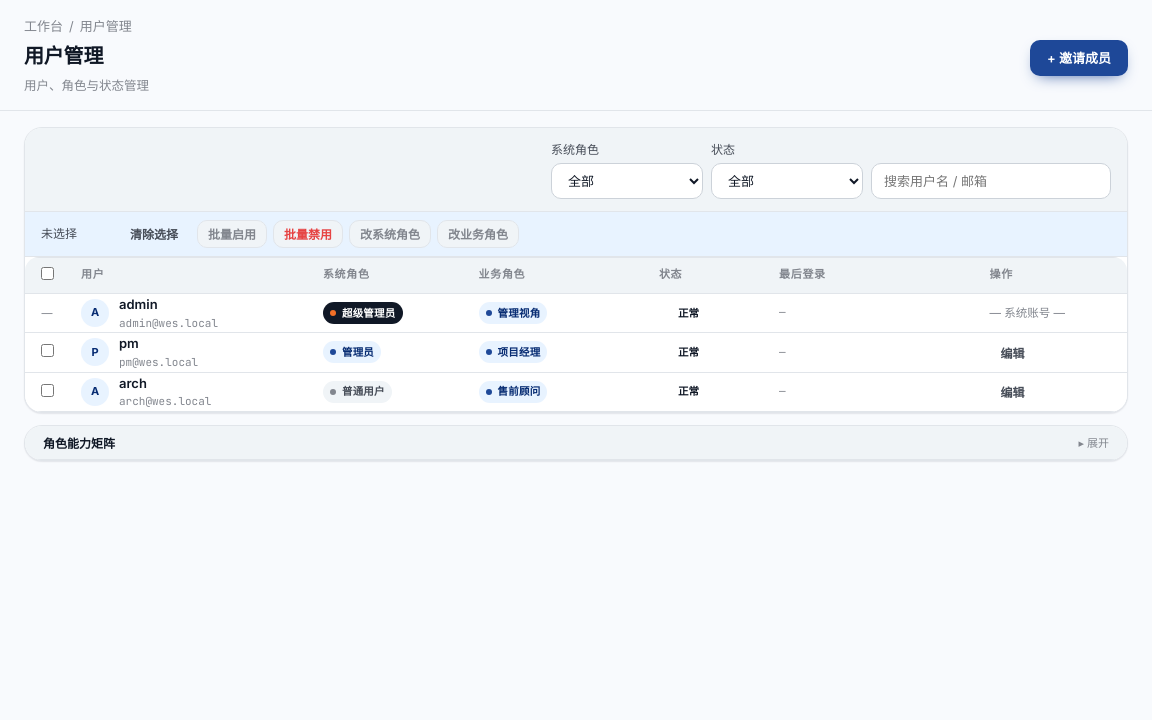
UserManagement › focuses the first editable user field
Click the button with aria-label "编辑 arch": (1012, 392) [990,378,1036,406]
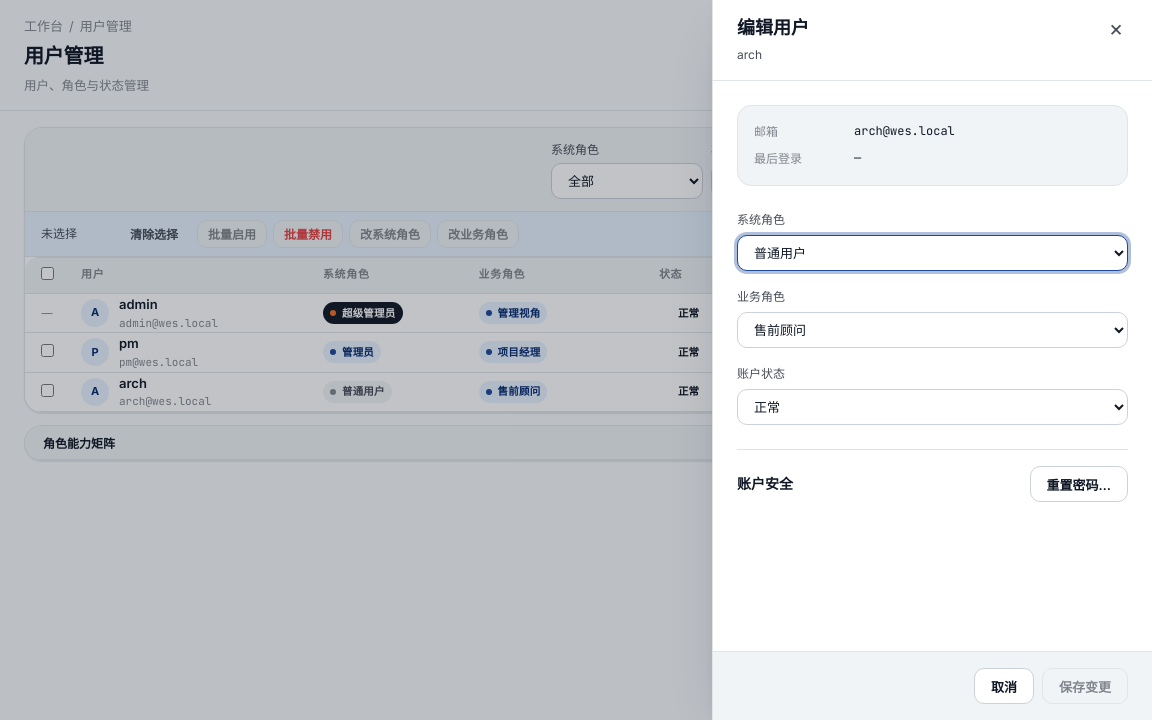
Expected: the dropdown labelled "系统角色" is enabled, [737,235,1128,271]
Expected: the button "保存变更" is disabled, [1042,668,1128,704]
